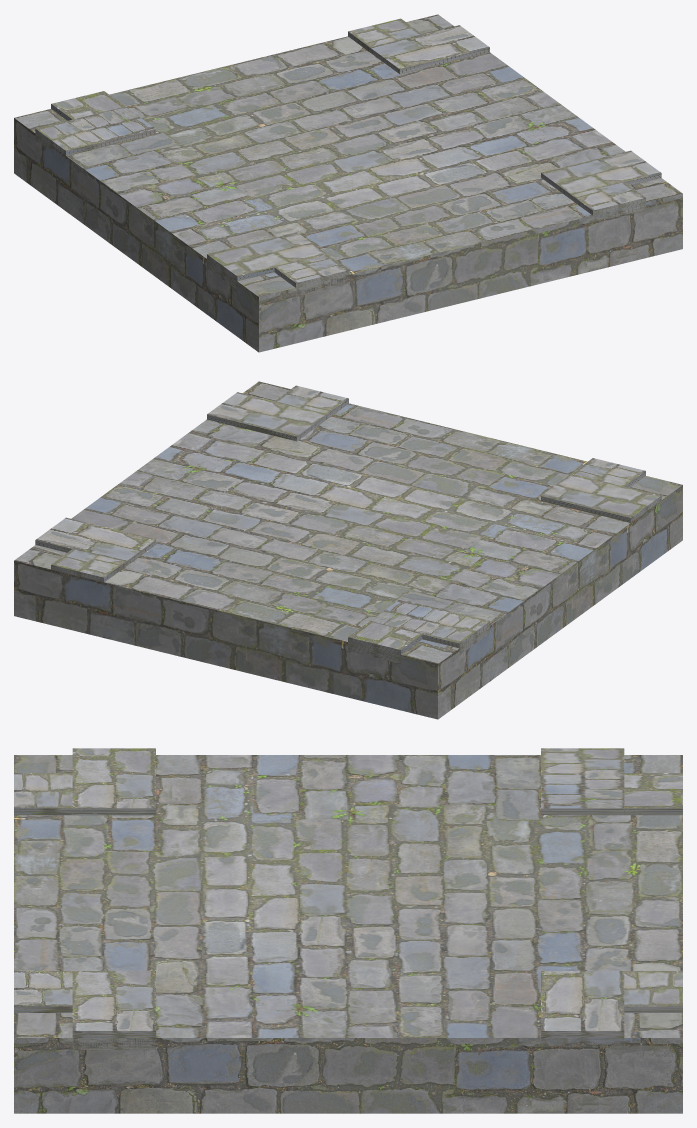
File: GND_Flat_02x02_city_cobble_junction_A.glb
3 views of the same model, one above another, from view 1: azimuth 30°, elevation 25°; view 2: azimuth 150°, elevation 25°; view 3: azimuth 270°, elevation 25° (orthographic). The views are drawn at different scales.
Visible parts, largest first — view 1: ground.002, rails.003, rails.006, rails.004, rails.008; view 2: ground.002, rails.004, rails.003, rails.006, rails.008; view 3: ground.002, rails.006, rails.008, rails.003, rails.004.
Boxes of the visible parts, bbox=[...] form: ground.002: bbox=[14, 14, 682, 352]; rails.003: bbox=[207, 232, 348, 296]; rails.006: bbox=[541, 150, 661, 221]; rails.004: bbox=[35, 91, 155, 162]; rails.008: bbox=[348, 18, 489, 74]; ground.002: bbox=[14, 381, 682, 719]; rails.004: bbox=[348, 599, 489, 663]; rails.003: bbox=[541, 458, 661, 522]; rails.006: bbox=[207, 385, 348, 441]; rails.008: bbox=[35, 517, 155, 582]; ground.002: bbox=[14, 755, 682, 1113]; rails.006: bbox=[14, 971, 155, 1049]; rails.008: bbox=[541, 971, 682, 1047]; rails.003: bbox=[14, 748, 155, 815]; rails.004: bbox=[541, 748, 682, 815].
Size of the model in its own units: 2 by 0.2723 by 2.
2 materials, 2 textured.
